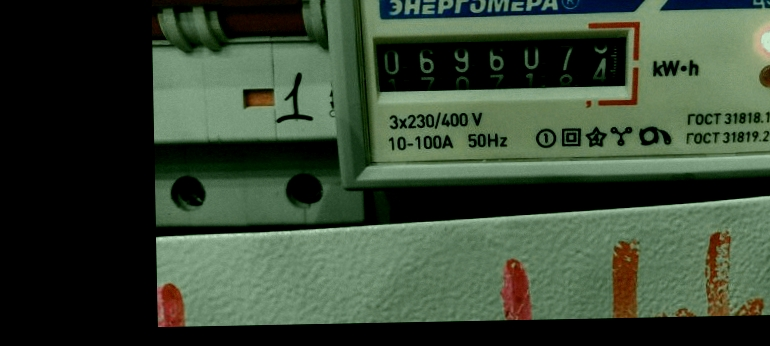0: (381, 46, 401, 76), (522, 40, 541, 70)
4: (589, 55, 609, 83)
6: (415, 44, 437, 75), (487, 43, 506, 71)
7: (557, 40, 574, 71)
9: (452, 45, 470, 74)
screen: (356, 14, 643, 110)
